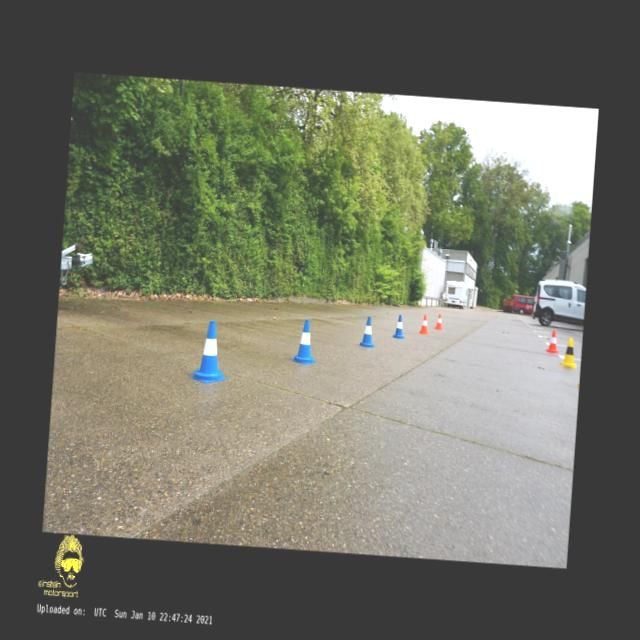blue_cone: (189, 320, 230, 384), (290, 318, 318, 365), (359, 316, 376, 348), (392, 314, 406, 338)
orange_cone: (546, 329, 560, 354), (419, 314, 429, 334), (434, 313, 443, 330)
yellow_cone: (560, 336, 578, 368)
